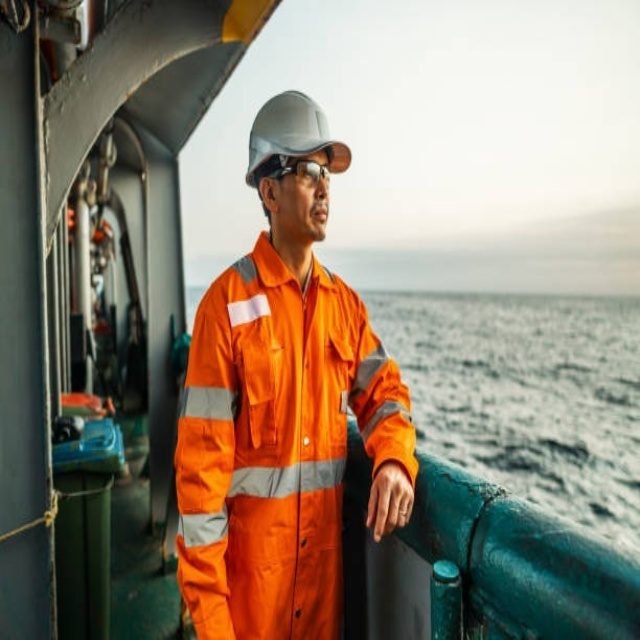Gafas: (273, 160, 332, 186)
Sin_guantes: (363, 463, 418, 538)
Sin_mascara: (303, 201, 328, 235)
